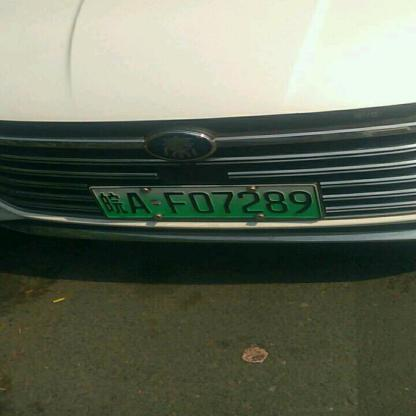lp: (88, 184, 322, 218)
